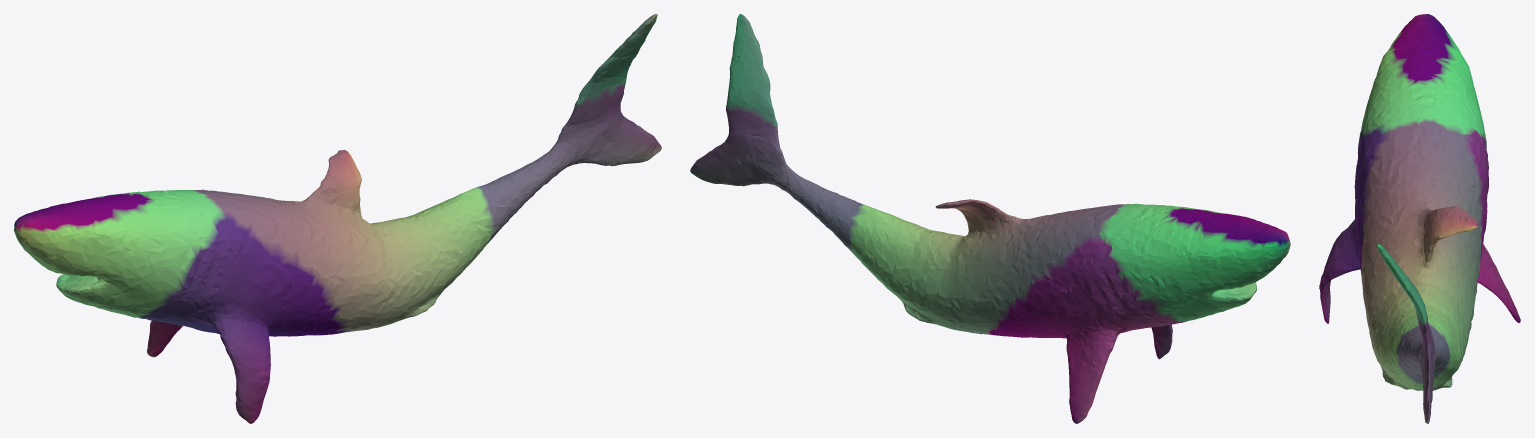
File: shark-19.off.obj
3 renders of one model, left to right at view 1: azimuth 30°, elevation 25°; view 2: azimuth 150°, elevation 25°; view 3: azimuth 270°, elevation 25°, orthographic. The views are drawn at different scales.
Bounding box in the file's own units: 1.5 × 0.6377 × 0.3955.
